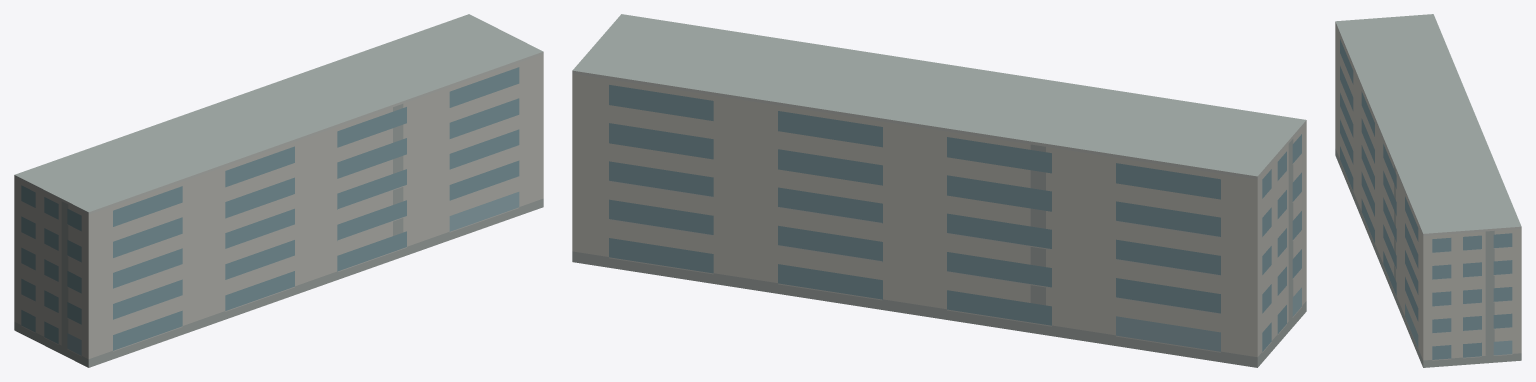
Rendered from residential-e568111e-d05c-4e1b-80f0-05dd4d4e7274.glb.
The picture shows the model from 3 angles, left to right: view 1: azimuth 30°, elevation 25°; view 2: azimuth 150°, elevation 25°; view 3: azimuth 270°, elevation 25°; orthographic projection. The views are drawn at different scales.
Parts seen in each view (by area): view 1: residential-e568111e-d05c-4e1b-80f0-05dd4d4e7274.tmp; view 2: residential-e568111e-d05c-4e1b-80f0-05dd4d4e7274.tmp; view 3: residential-e568111e-d05c-4e1b-80f0-05dd4d4e7274.tmp.
Boxes of the visible parts, box(x1,y1,x2,y2) form: residential-e568111e-d05c-4e1b-80f0-05dd4d4e7274.tmp: box(14, 14, 543, 367); residential-e568111e-d05c-4e1b-80f0-05dd4d4e7274.tmp: box(572, 14, 1306, 367); residential-e568111e-d05c-4e1b-80f0-05dd4d4e7274.tmp: box(1335, 14, 1521, 367).
Bounding box in the file's own units: 53.65 × 15.25 × 19.21.
